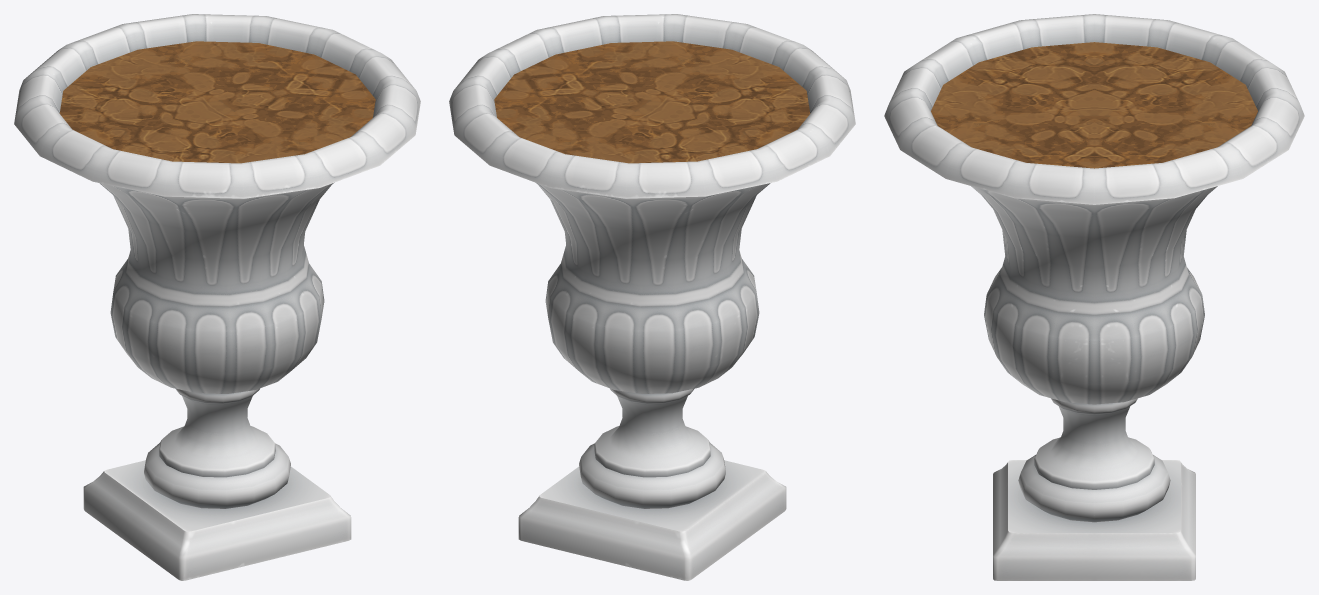
Rendered from ParkFlowerPot01.FBX.
3 views of the same model, side by side, from view 1: azimuth 30°, elevation 25°; view 2: azimuth 150°, elevation 25°; view 3: azimuth 270°, elevation 25° (orthographic). The views are drawn at different scales.
Visible parts, largest first — view 1: ParkFlowerPot01; view 2: ParkFlowerPot01; view 3: ParkFlowerPot01.
Part boxes in pixels (bbox=[...]): ParkFlowerPot01: bbox=[14, 14, 420, 580]; ParkFlowerPot01: bbox=[449, 14, 855, 580]; ParkFlowerPot01: bbox=[884, 14, 1304, 580].
Size of what is drawn, in the model's own units: 1.03 by 1.21 by 1.03.
